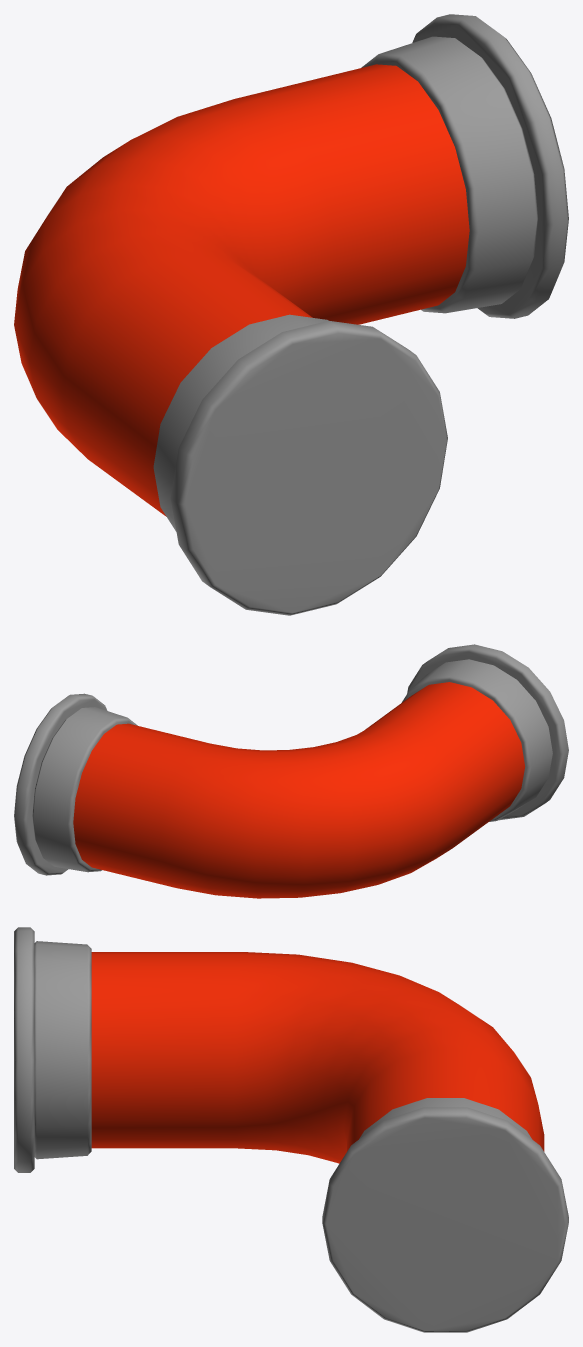
Rendered from BendPipe.FBX.
3 renders of one model, top to bottom at view 1: azimuth 30°, elevation 25°; view 2: azimuth 150°, elevation 25°; view 3: azimuth 270°, elevation 25°, orthographic. The views are drawn at different scales.
Parts seen in each view (by area): view 1: Line001, Cylinder010, Cylinder026, Cylinder005, Cylinder025; view 2: Line001, Cylinder026, Cylinder025, Cylinder010, Cylinder005; view 3: Line001, Cylinder005, Cylinder025, Cylinder010, Cylinder026.
Part boxes in pixels (x1,y1,x2,y2): Line001: (14,64,469,516); Cylinder010: (170,320,447,615); Cylinder026: (361,36,537,313); Cylinder005: (412,14,568,318); Cylinder025: (153,314,328,531); Line001: (73,682,525,898); Cylinder026: (32,707,137,872); Cylinder025: (401,659,552,821); Cylinder010: (407,644,568,820); Cylinder005: (14,693,107,875); Line001: (91,952,544,1163); Cylinder005: (322,1107,568,1332); Cylinder025: (34,941,91,1159); Cylinder010: (14,927,34,1172); Cylinder026: (359,1098,531,1138).
Bounding box in the file's own units: 130 × 59.11 × 135.
